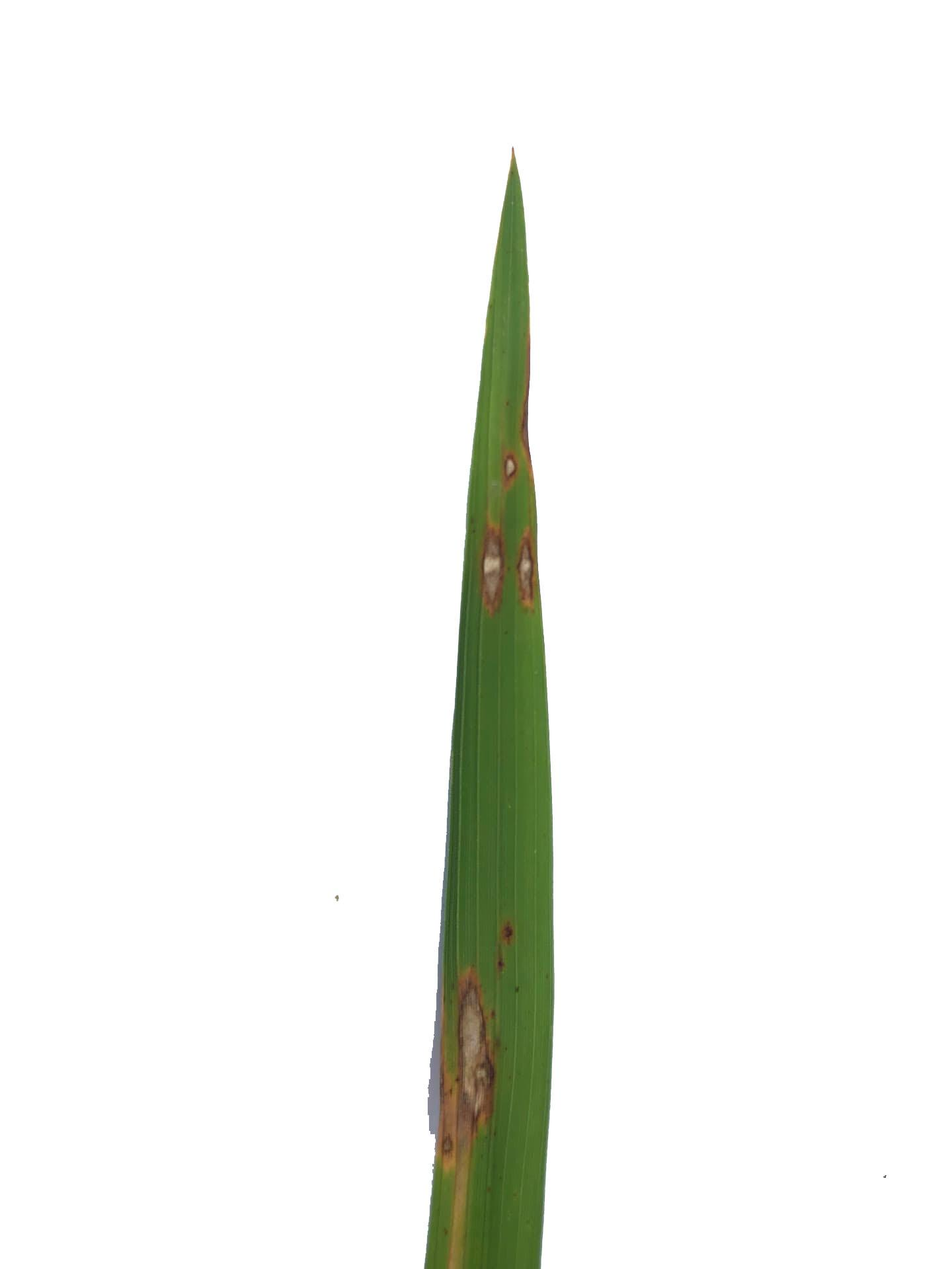Rice blast: (448, 957, 500, 1166), (504, 534, 546, 627), (473, 513, 505, 626), (491, 430, 525, 486)
